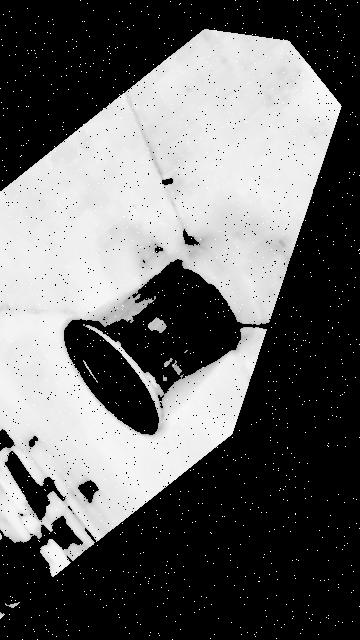pot: (63, 265, 238, 436)
